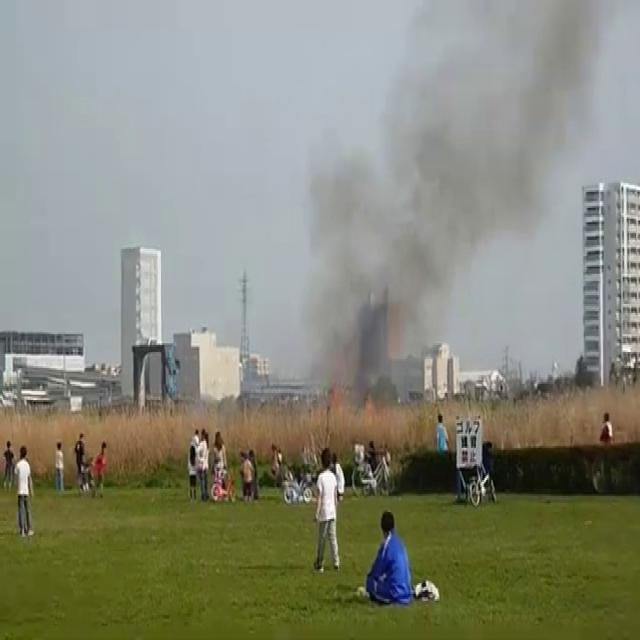Smoke: (291, 0, 619, 420)
